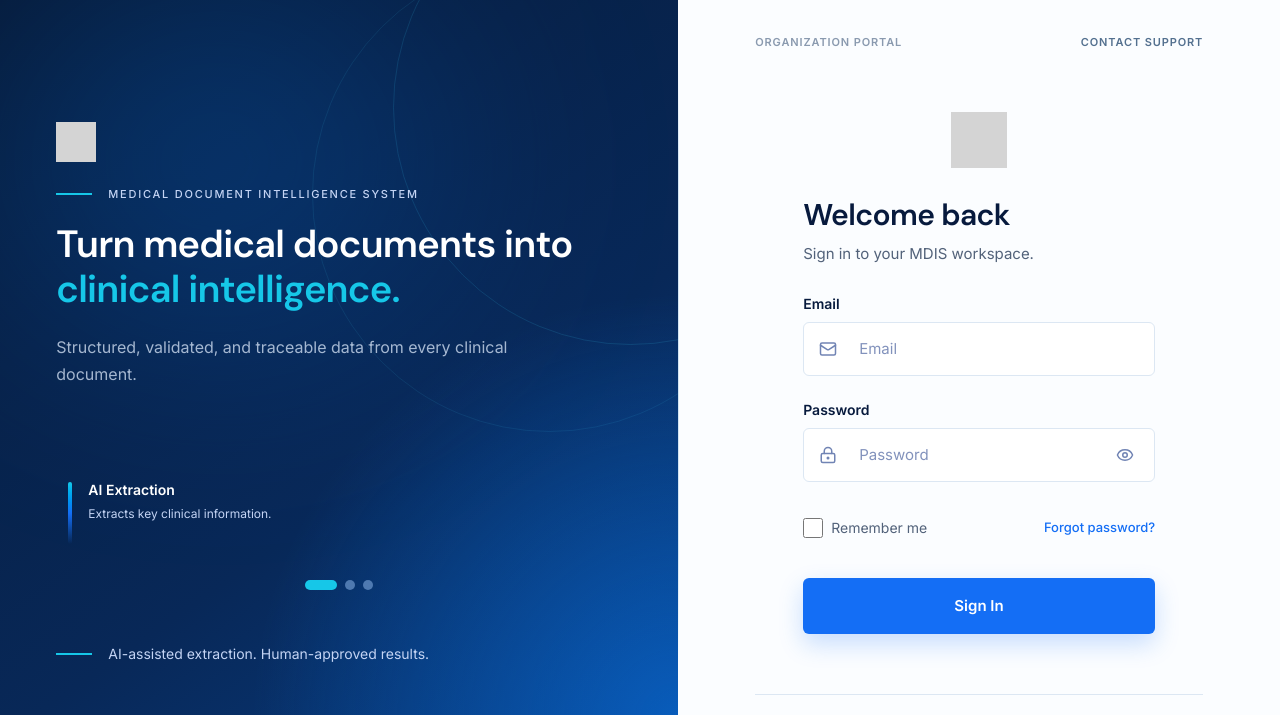
Test: frontend authentication core › shows the account status page for pending_approval
Type "clinician@example.test" into the field labelled "Email". click: (979, 348)
box: [803, 322, 1155, 376]
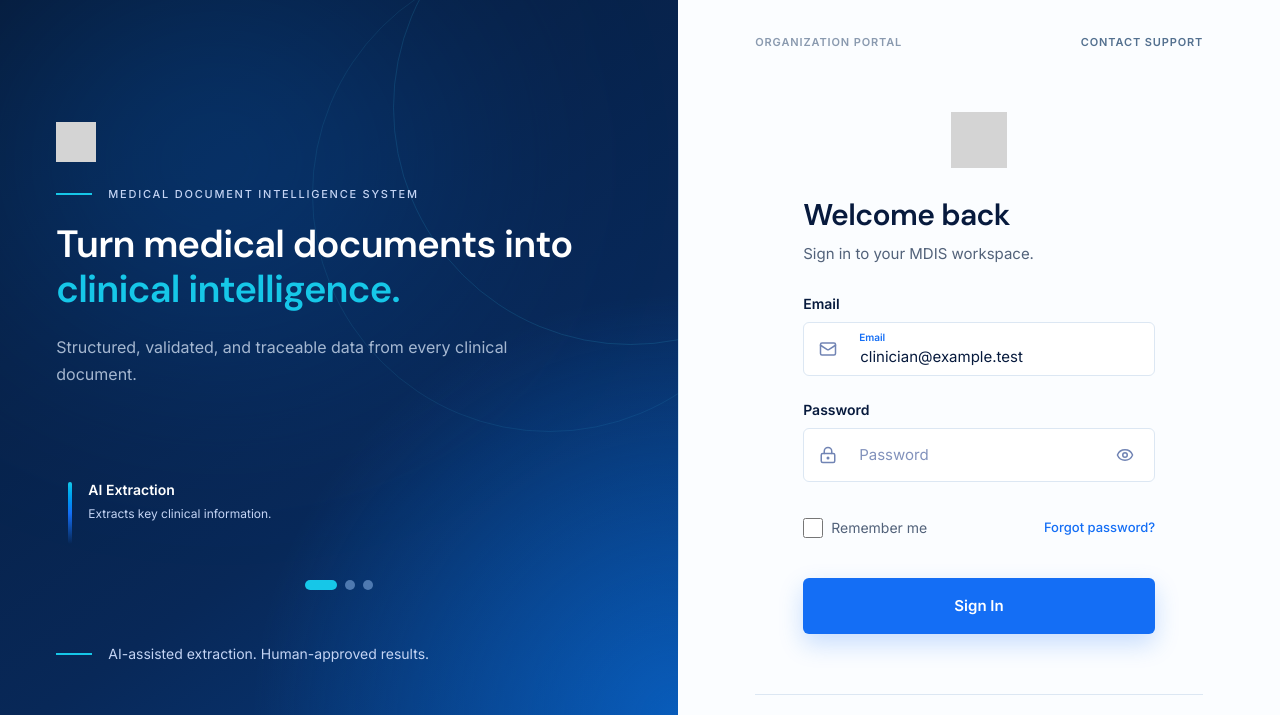
Type "synthetic secret phrase" into the password field labelled "Password". click: (979, 454)
box: [803, 428, 1155, 482]
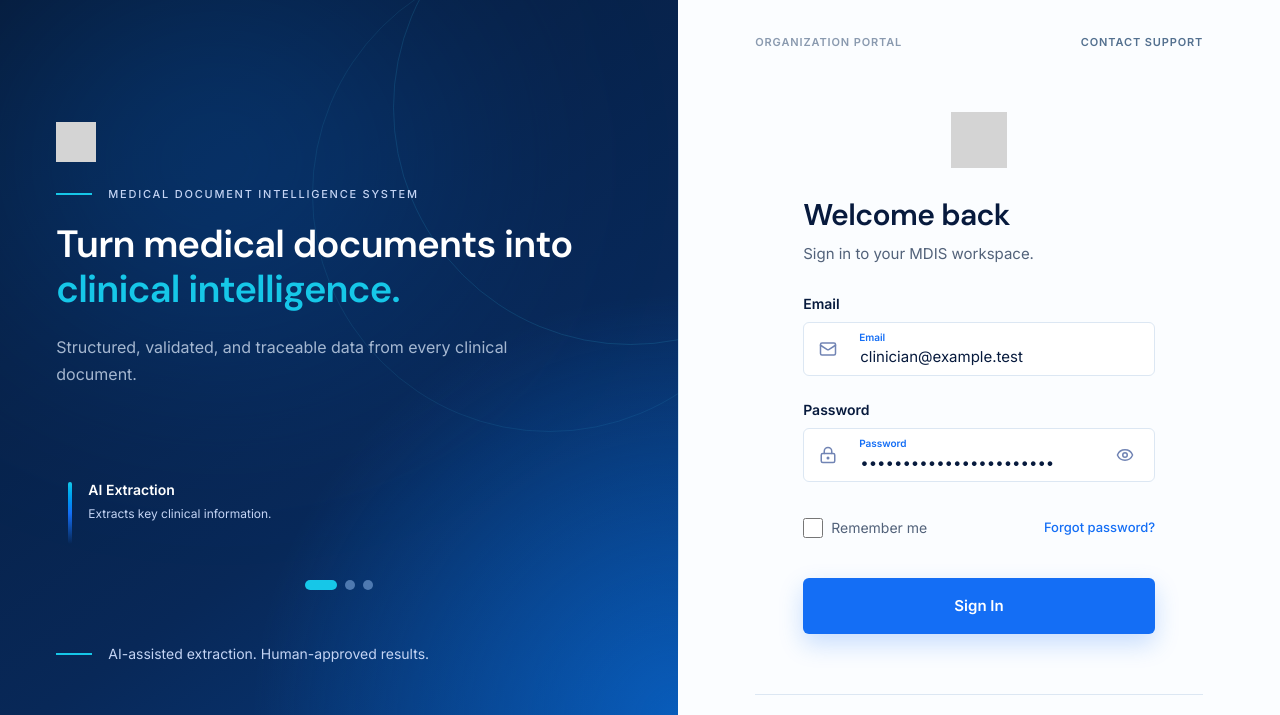
Click the button "Sign In". click: (979, 606)
box: [803, 578, 1155, 634]
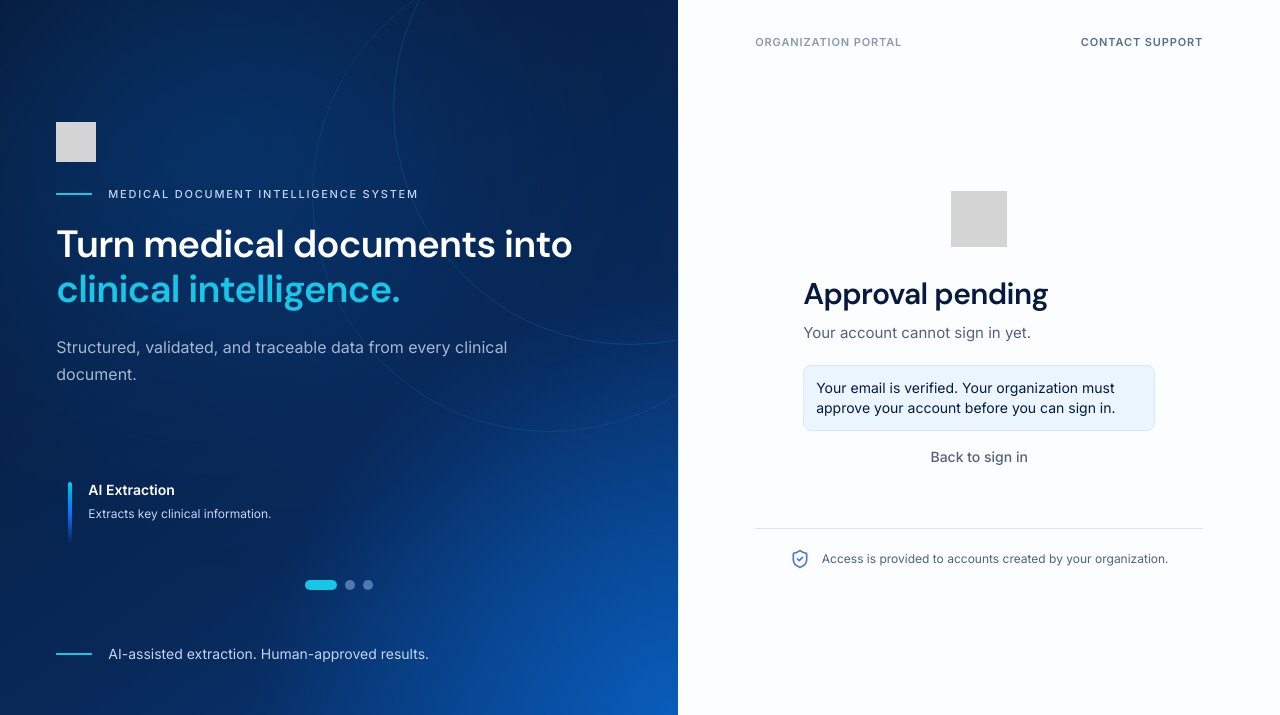
Now the heading "Approval pending" is shown, box [803, 274, 1048, 313]
Now the text labelled "Password" is gone
Now the button "Back to sign in" is shown, box [803, 447, 1155, 467]
